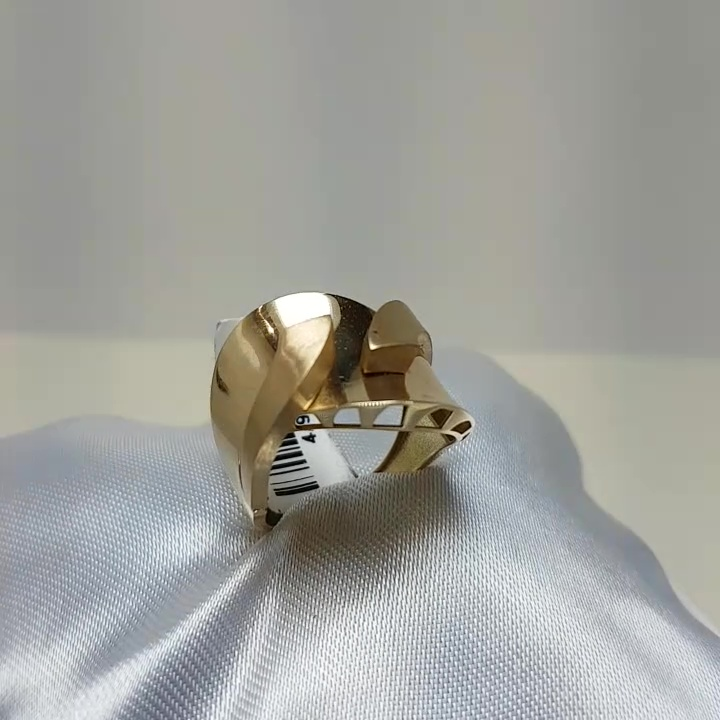Ring 4: (181, 265, 472, 537)
